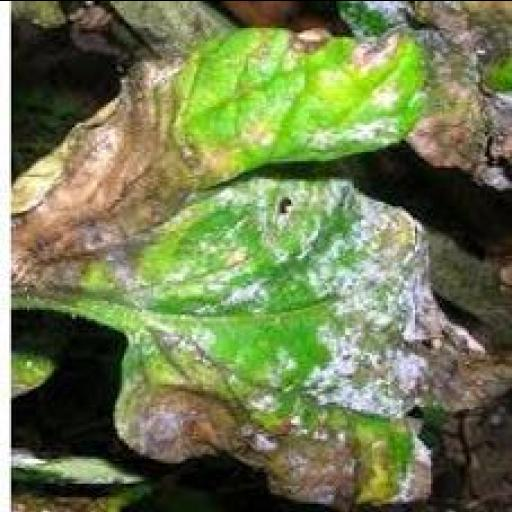disease_tomato: (11, 20, 511, 512)
